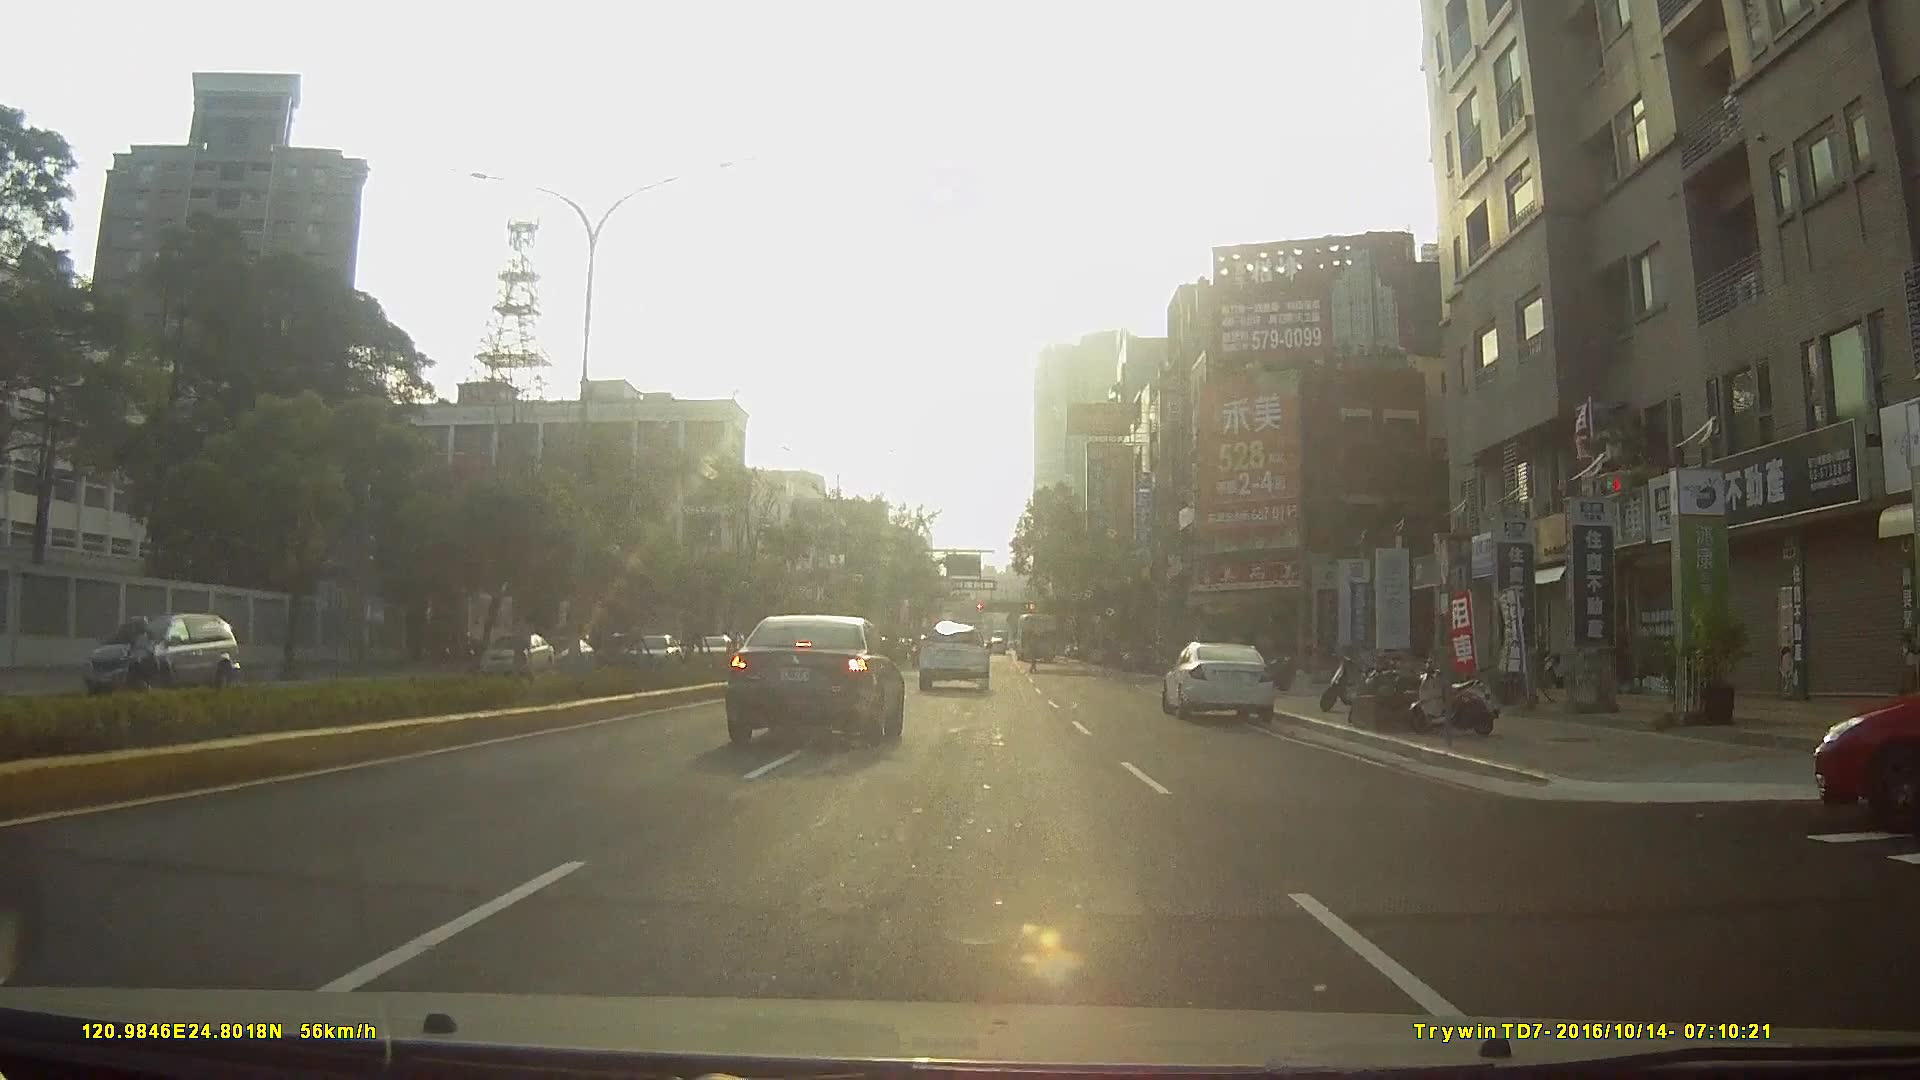rider: (123, 612, 173, 705)
vehicle: (727, 610, 909, 746), (1810, 655, 1920, 826), (81, 606, 246, 701), (1163, 640, 1280, 724), (917, 619, 991, 690), (475, 628, 553, 673), (623, 631, 686, 676), (1011, 610, 1060, 662), (686, 634, 740, 667)
